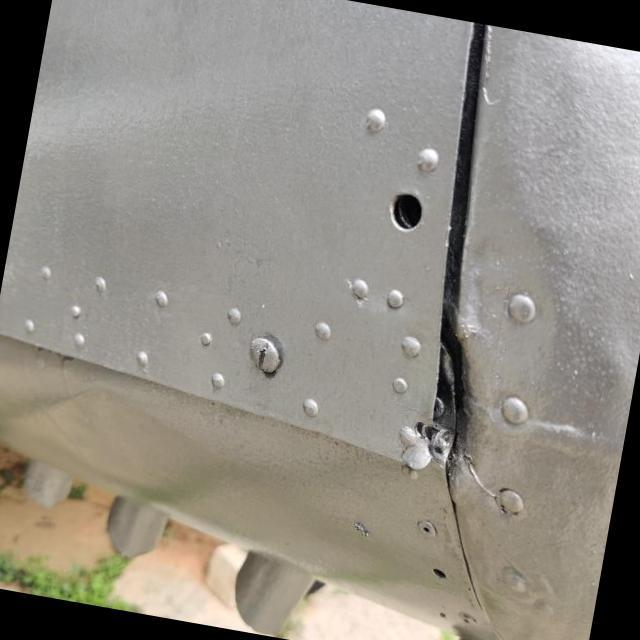Fastener Damage: (340, 164, 455, 270)
